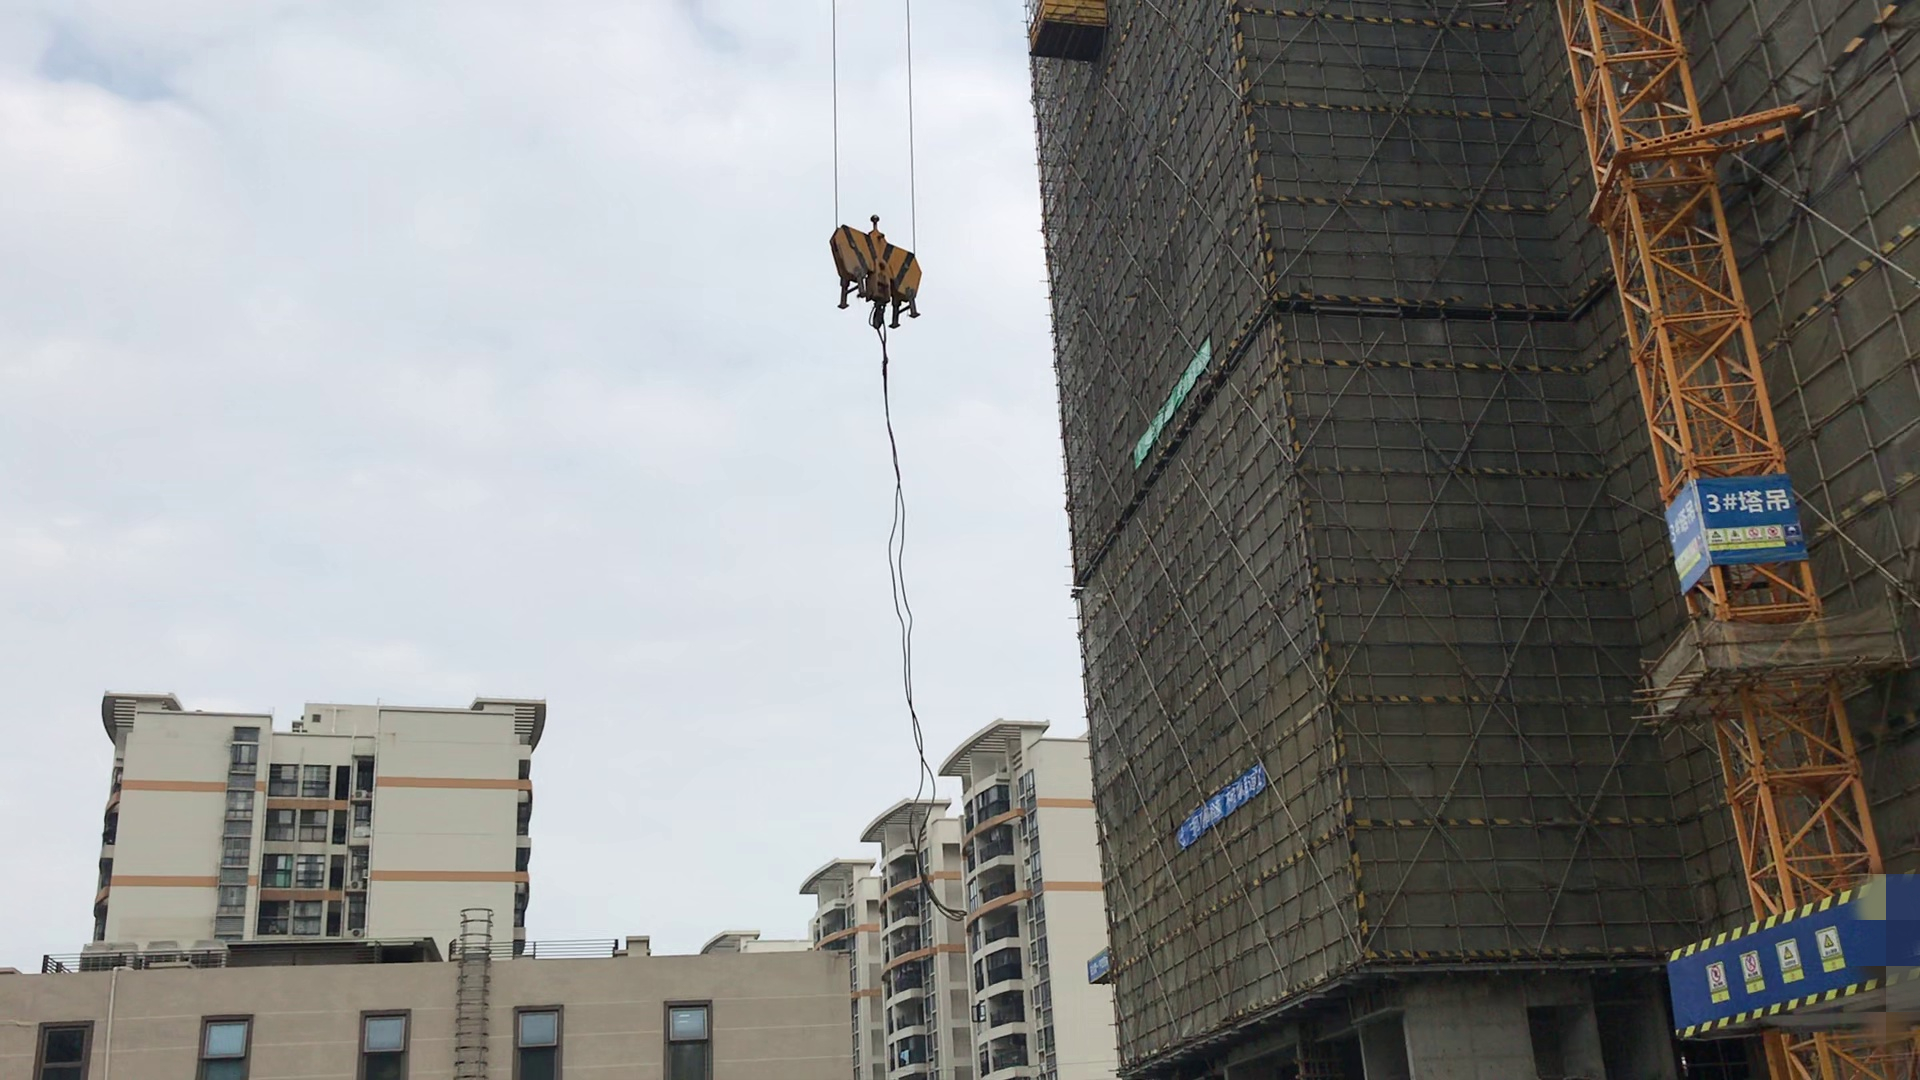hook: (828, 210, 938, 342)
slogan: (1033, 343, 1247, 475), (1116, 752, 1299, 832)
